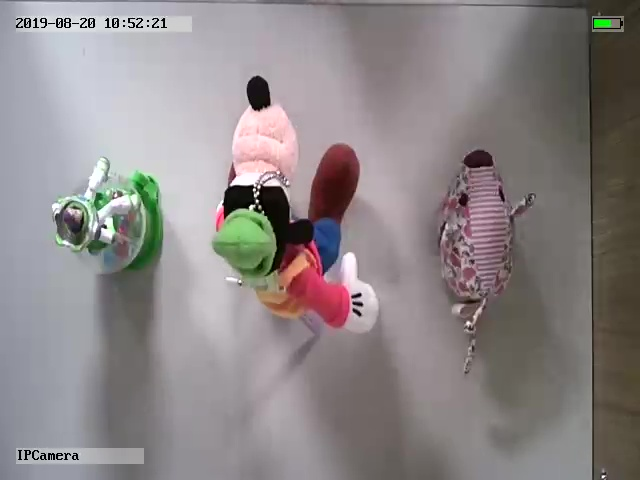buzz: (50, 154, 165, 278)
goofy: (211, 74, 380, 332)
pig: (434, 147, 538, 378)
